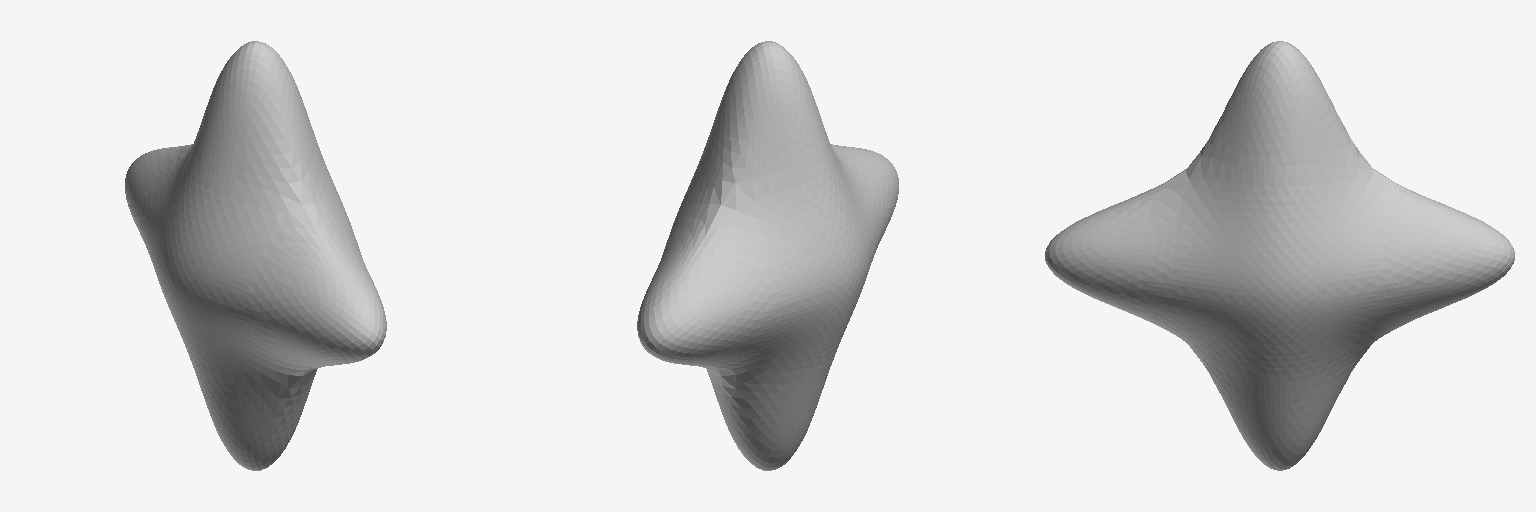
Rendered from calm_star_2560.obj.
3 views of the same model, side by side, from view 1: azimuth 30°, elevation 25°; view 2: azimuth 150°, elevation 25°; view 3: azimuth 270°, elevation 25° (orthographic).
Visible parts, largest first — view 1: calm_star_2560; view 2: calm_star_2560; view 3: calm_star_2560.
Part boxes in pixels (x1,y1,x2,y2): calm_star_2560: (125, 41, 386, 470); calm_star_2560: (637, 41, 898, 470); calm_star_2560: (1045, 41, 1514, 470).
Size of the model in its own units: 2.06 by 4.89 by 4.89.